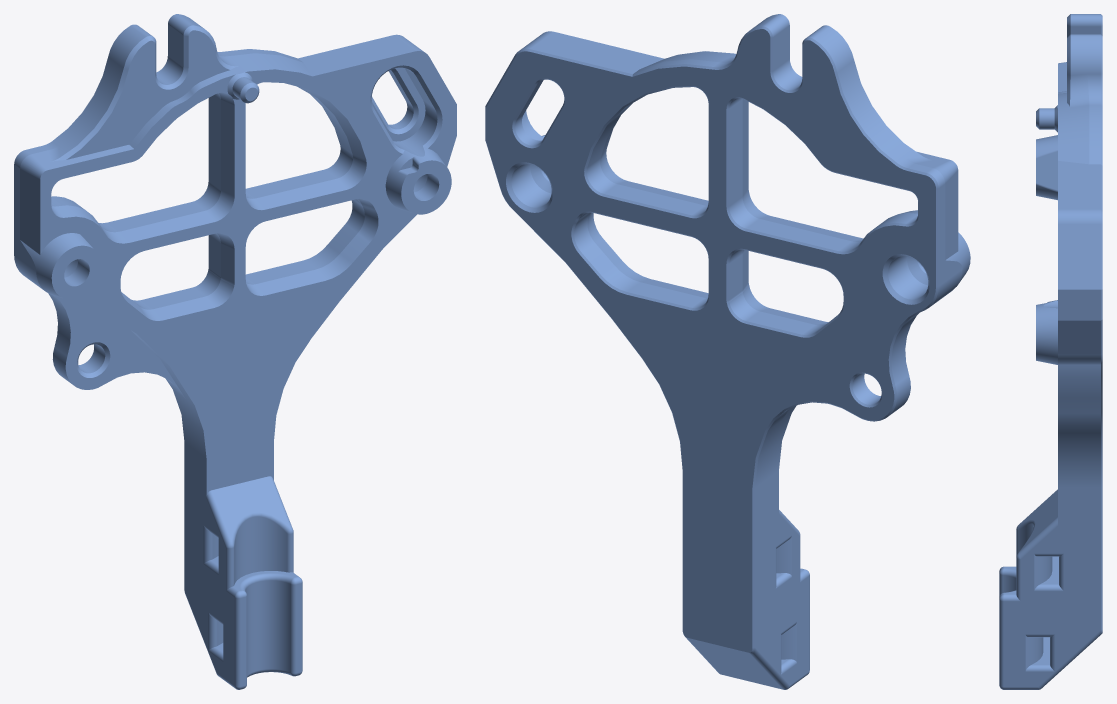
The model's file is A4T - THB Mount - WWBMG - H36.gltf.
3 views of the same model, side by side, from view 1: azimuth 30°, elevation 25°; view 2: azimuth 150°, elevation 25°; view 3: azimuth 270°, elevation 25° (orthographic). The views are drawn at different scales.
Visible parts, largest first — view 1: A4T - THB Mount - WWBMG - H36; view 2: A4T - THB Mount - WWBMG - H36; view 3: A4T - THB Mount - WWBMG - H36.
Part boxes in pixels (box(x1,y1,x2,y2)): A4T - THB Mount - WWBMG - H36: box(14, 14, 456, 689); A4T - THB Mount - WWBMG - H36: box(485, 14, 970, 689); A4T - THB Mount - WWBMG - H36: box(999, 14, 1102, 689).
Bounding box in the file's own units: 0.0528 × 0.077 × 0.0116.
